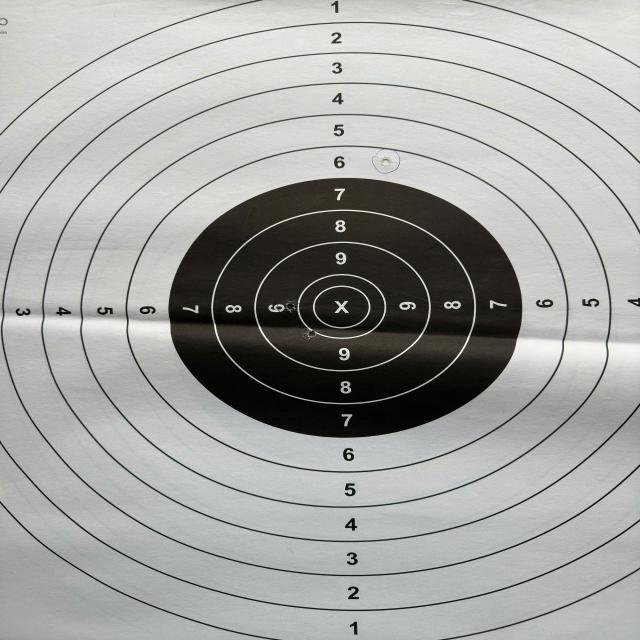bullet: (379, 157, 393, 167), (306, 330, 318, 338), (286, 302, 296, 310)
target: (1, 0, 640, 640)
